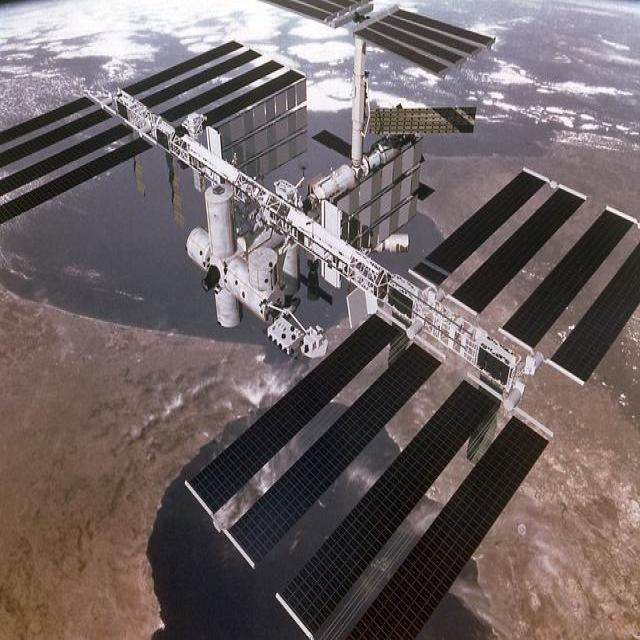medium_debris: (5, 8, 635, 638)
